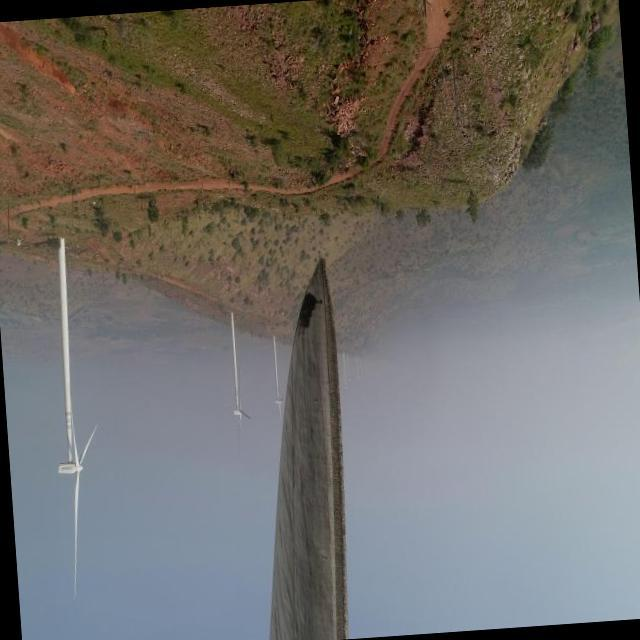Dirt: (268, 260, 345, 640)
Oil LEAKAGE: (291, 289, 328, 327)
